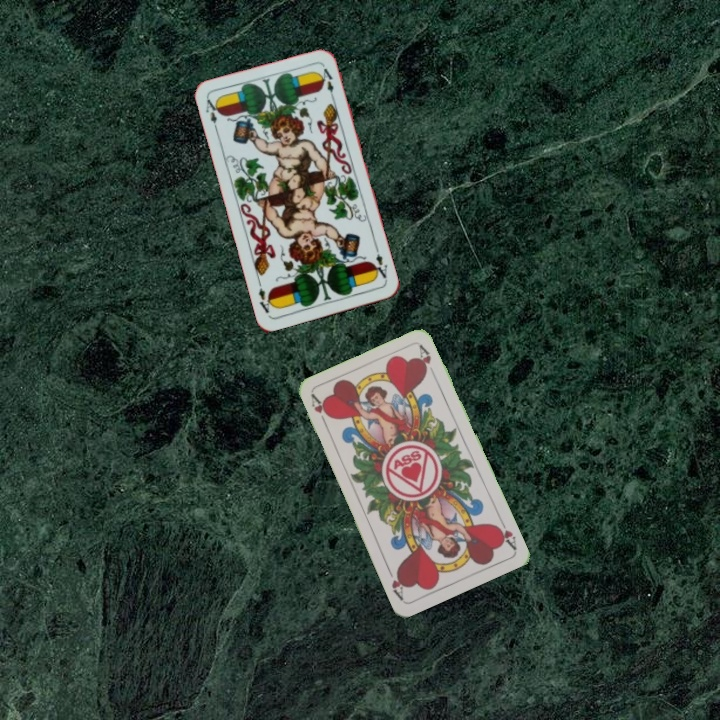EA: (202, 95, 223, 135), (369, 250, 390, 283)
HA: (491, 514, 519, 552), (307, 391, 332, 430)
